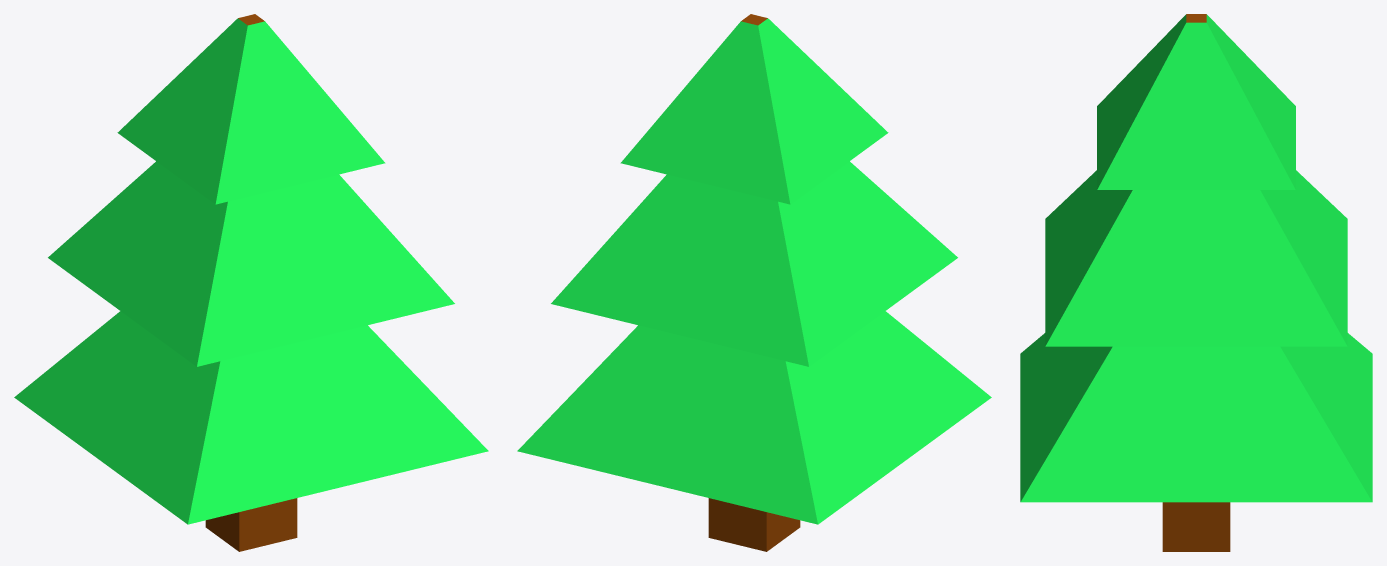
The model's file is elka.fbx.
3 renders of one model, left to right at view 1: azimuth 30°, elevation 25°; view 2: azimuth 150°, elevation 25°; view 3: azimuth 270°, elevation 25°, orthographic.
Parts seen in each view (by area): view 1: elka.001; view 2: elka.001; view 3: elka.001.
Part boxes in pixels (x1,y1,x2,y2): elka.001: (14,14,488,551); elka.001: (517,14,991,551); elka.001: (1020,14,1372,551).
Bounding box in the file's own units: 159 × 258 × 159.
